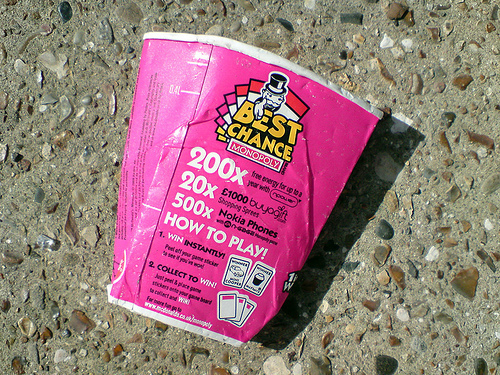litter: (108, 32, 383, 346)
